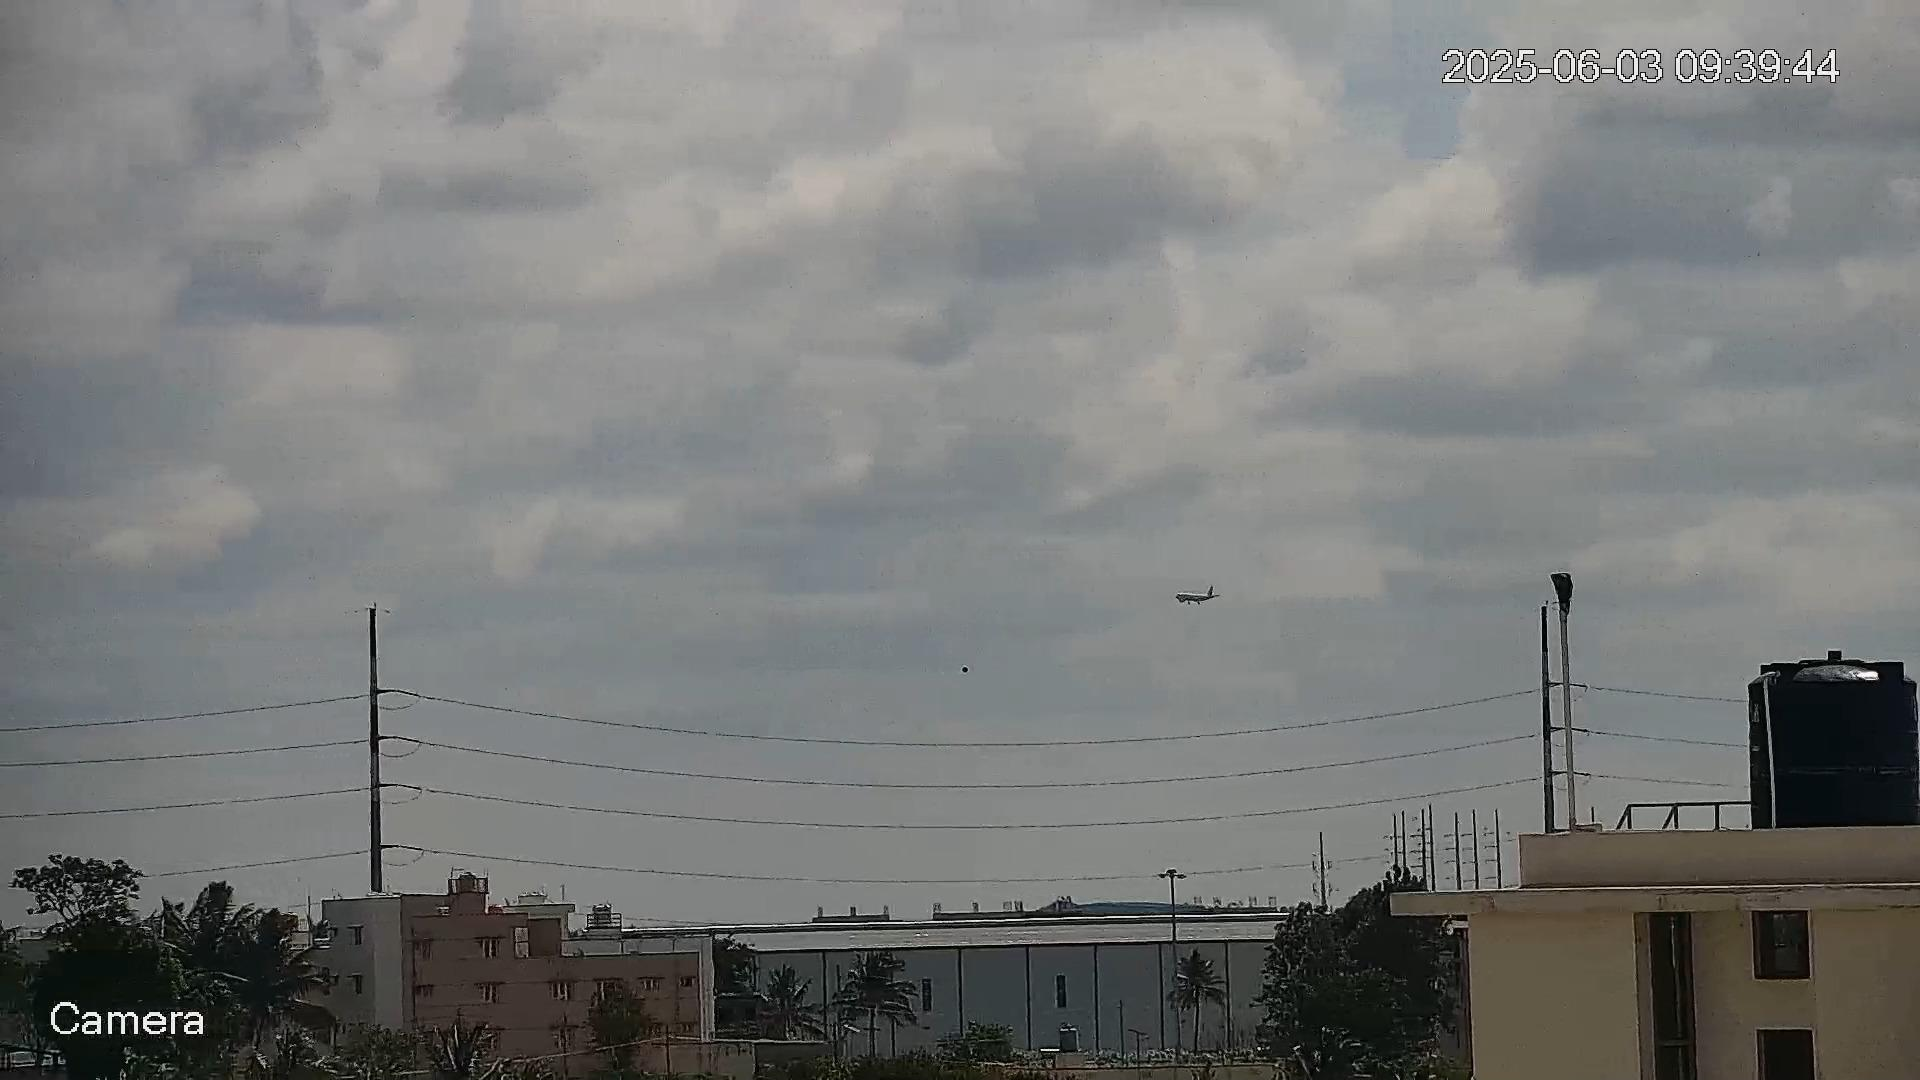Aircraft: (1175, 584, 1218, 605)
